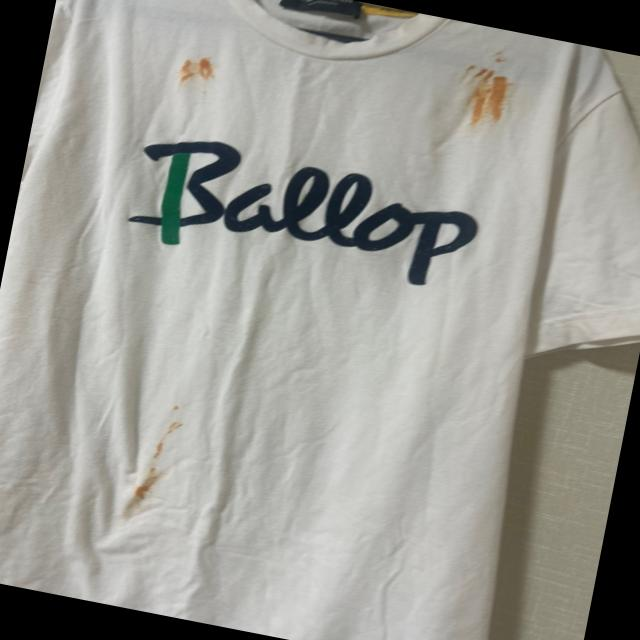stain: (450, 61, 522, 132), (168, 50, 222, 94), (150, 402, 187, 466), (130, 469, 164, 503), (492, 46, 518, 70)
